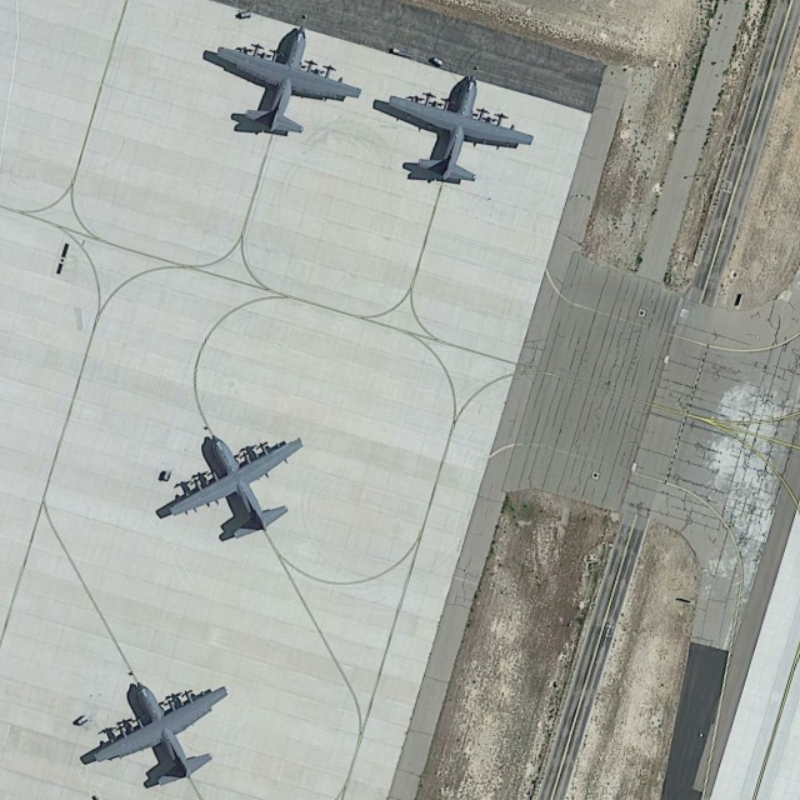A2: (209, 20, 366, 144), (379, 71, 536, 192), (162, 429, 309, 545), (91, 675, 229, 794)
